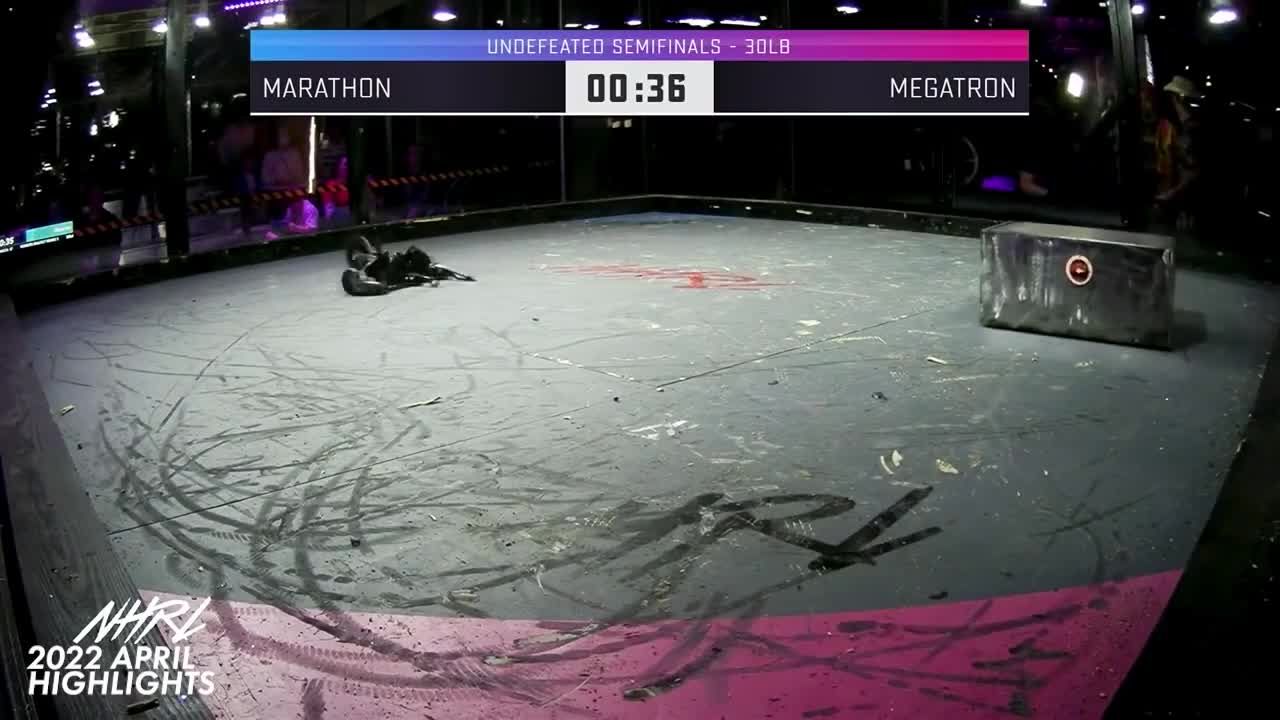combatbot: (342, 234, 477, 299)
housebot: (976, 221, 1183, 350)
